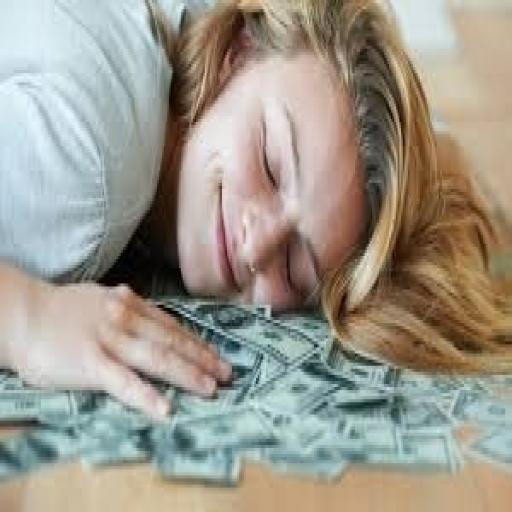sleeping: (0, 0, 509, 424)
